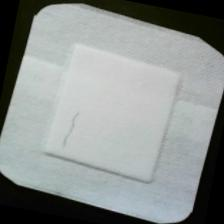Dressing: (1, 1, 224, 224)
F_Body: (55, 107, 91, 158)
